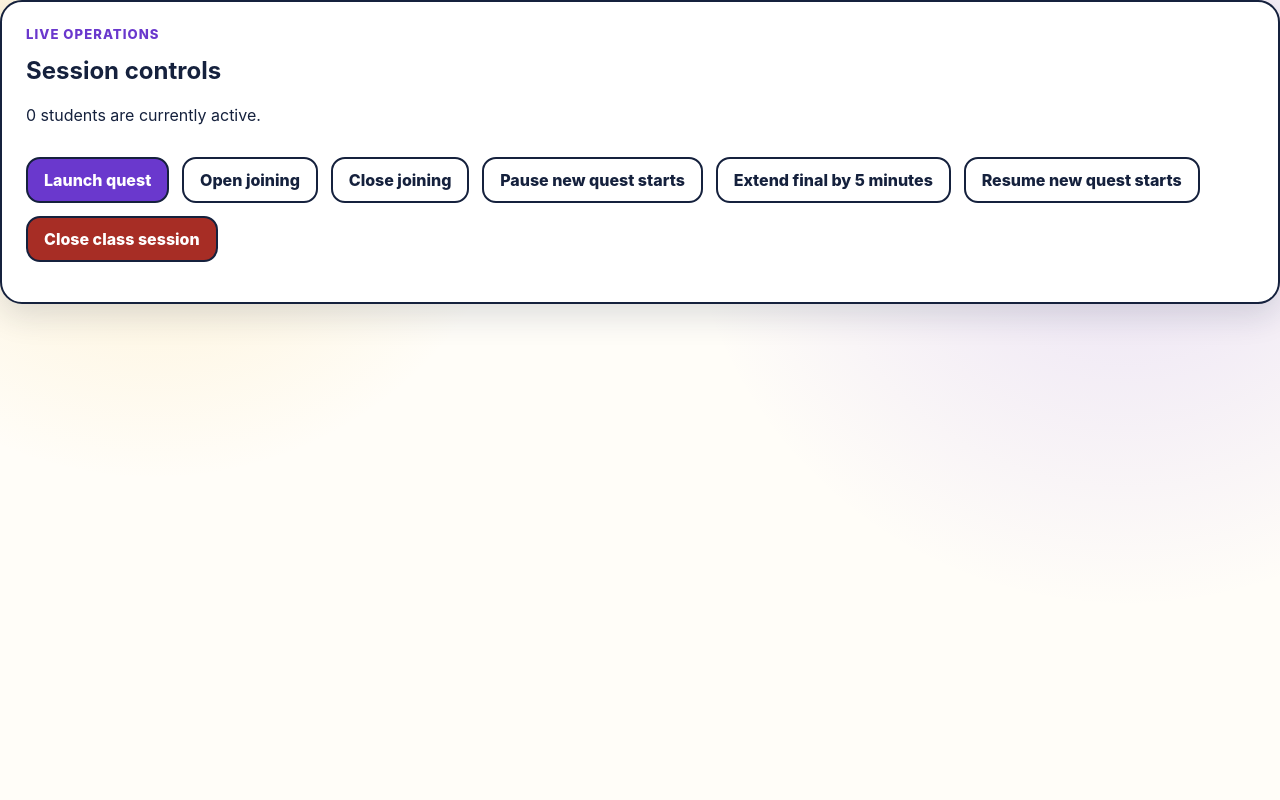
Scenario: requires named confirmation before launching real student attempts
Step 1. Click the button "Launch quest" → x=98, y=180, box [26,156,169,203]
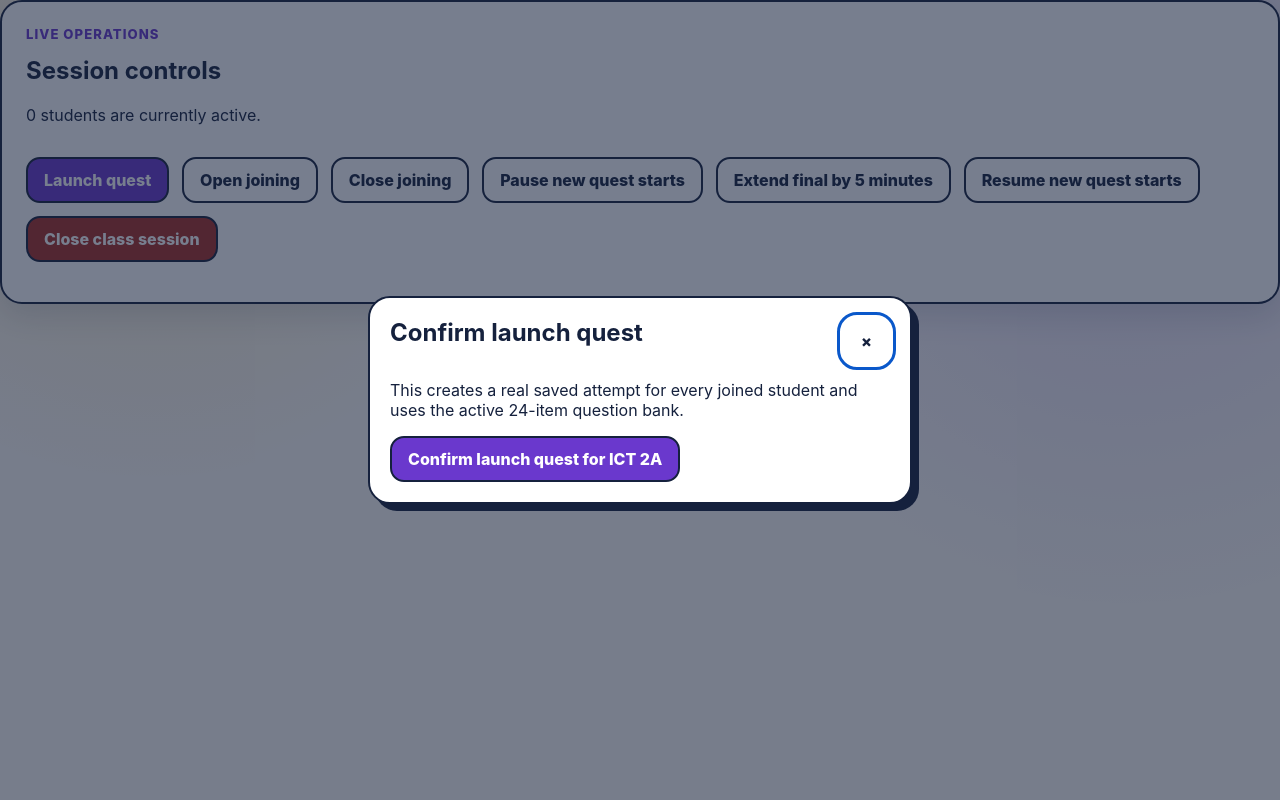
Expected: the text "creates a real saved attempt for every joined student" is shown, [390,380,858,420]
Step 2. Click the button "Confirm launch quest for ICT 2A" → x=535, y=459, box [390,436,680,482]
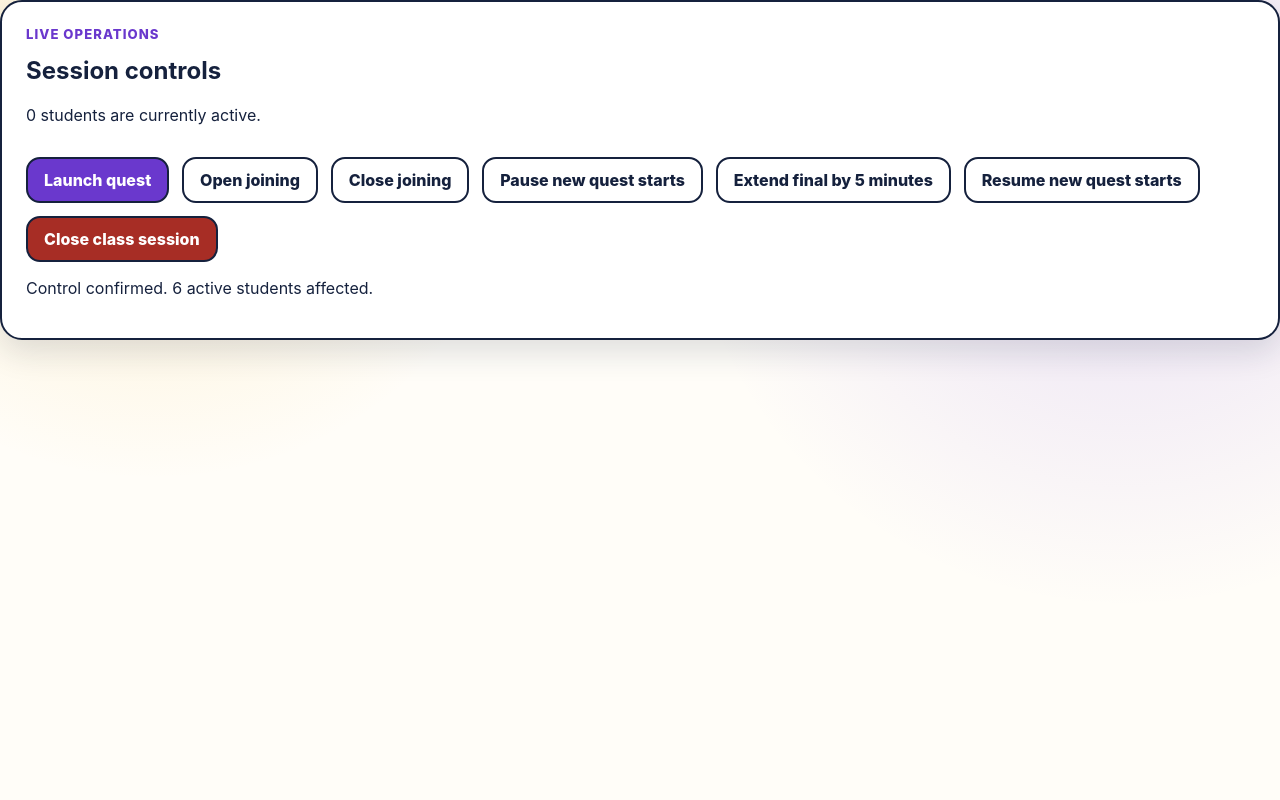
Expected: the message reads "Control confirmed. 6 active students affected.", [26,278,373,298]
